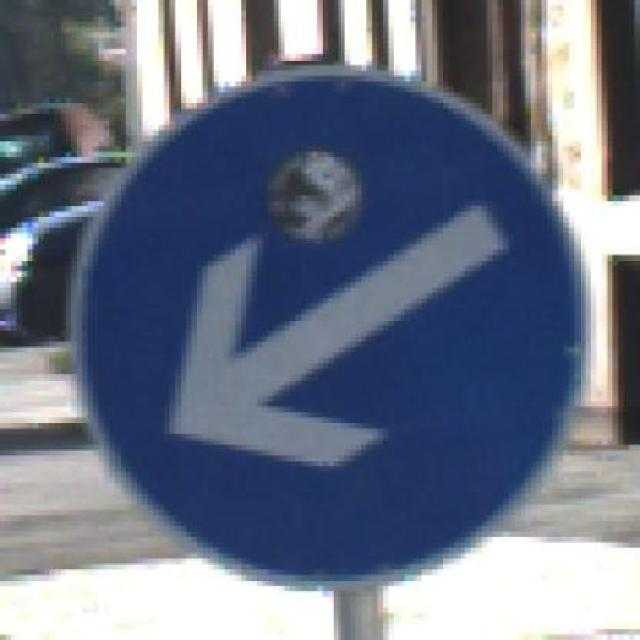Keep-Left: (71, 55, 597, 602)
